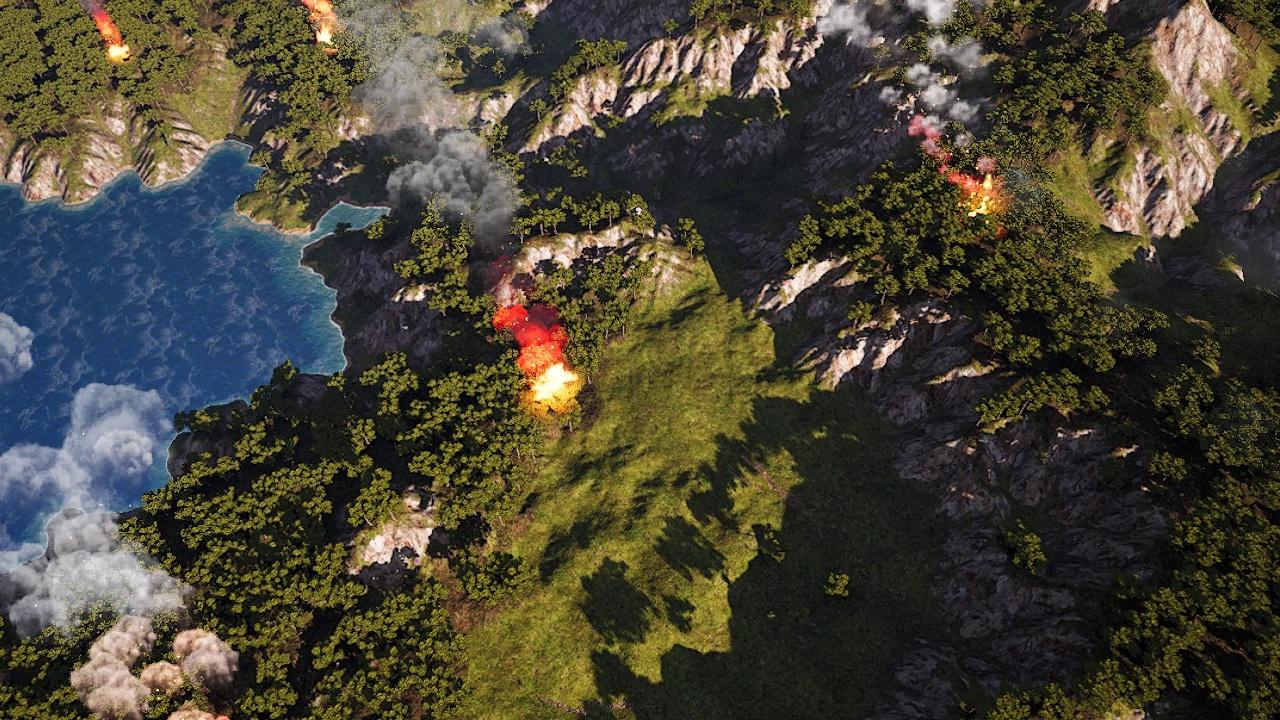fire: (532, 361, 581, 406), (959, 172, 1004, 219), (306, 1, 340, 47), (101, 20, 131, 62)
smoke: (0, 306, 248, 720), (339, 4, 534, 284), (812, 1, 1012, 160), (490, 266, 564, 364), (22, 0, 120, 29)
